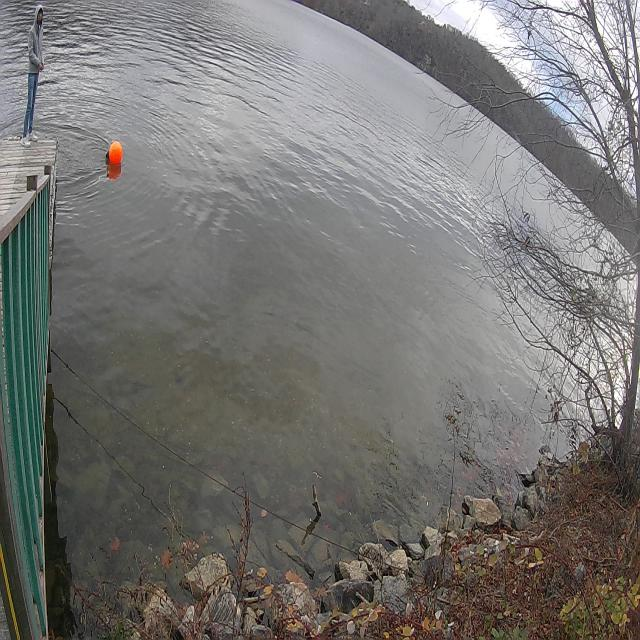Buoy: (106, 138, 125, 170)
